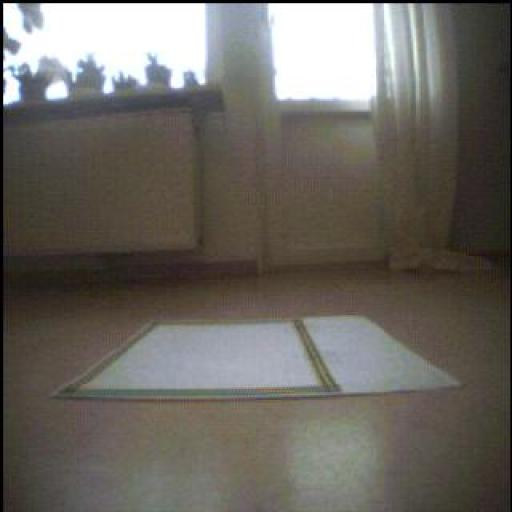Pad: (57, 318, 459, 401)
